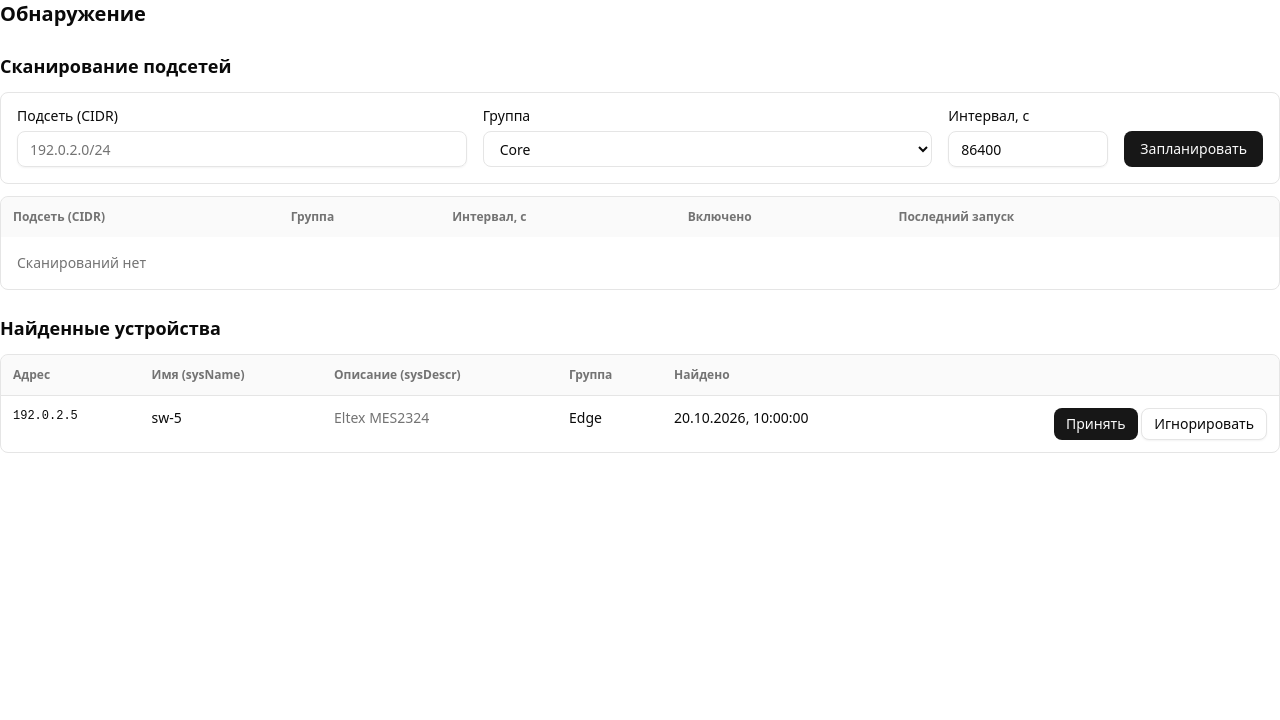
Test: inbox › shows not_pending when the find was handled elsewhere
This screenshot has width=1280, height=720.
Click the button "Принять": [1096, 424] box [1054, 408, 1138, 440]
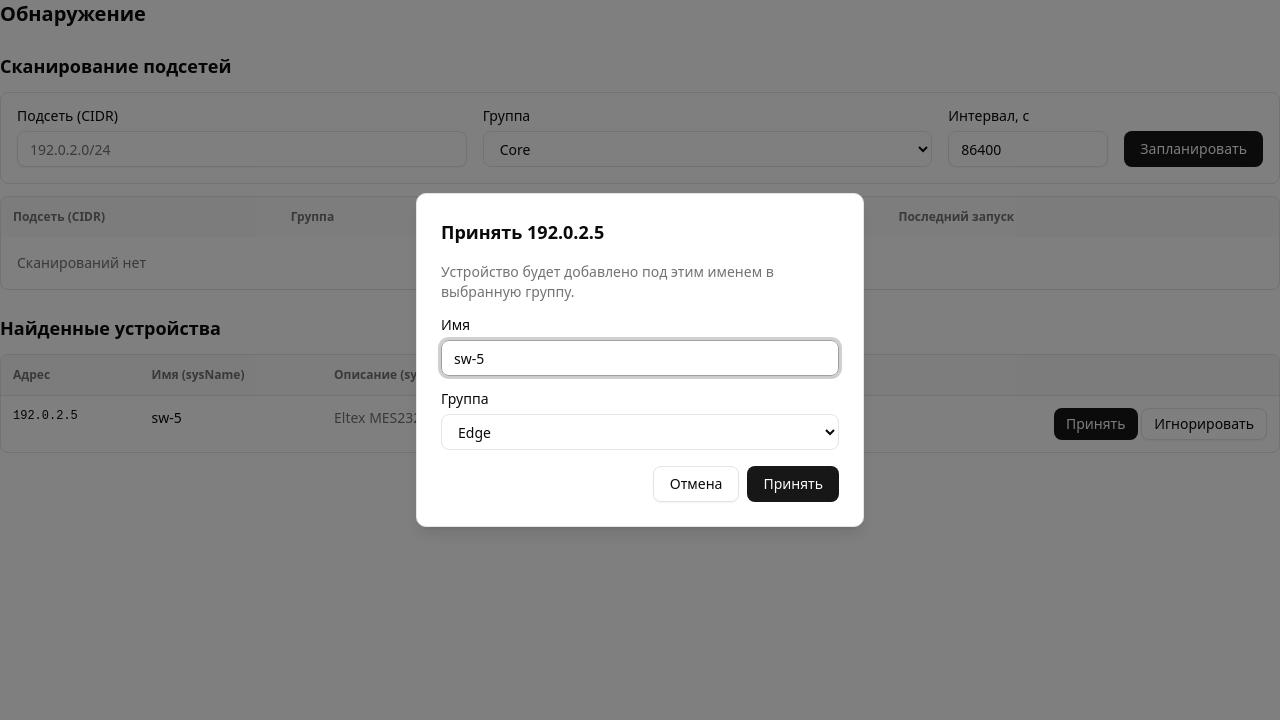
Click the button "Принять": [793, 484] box [747, 466, 839, 502]
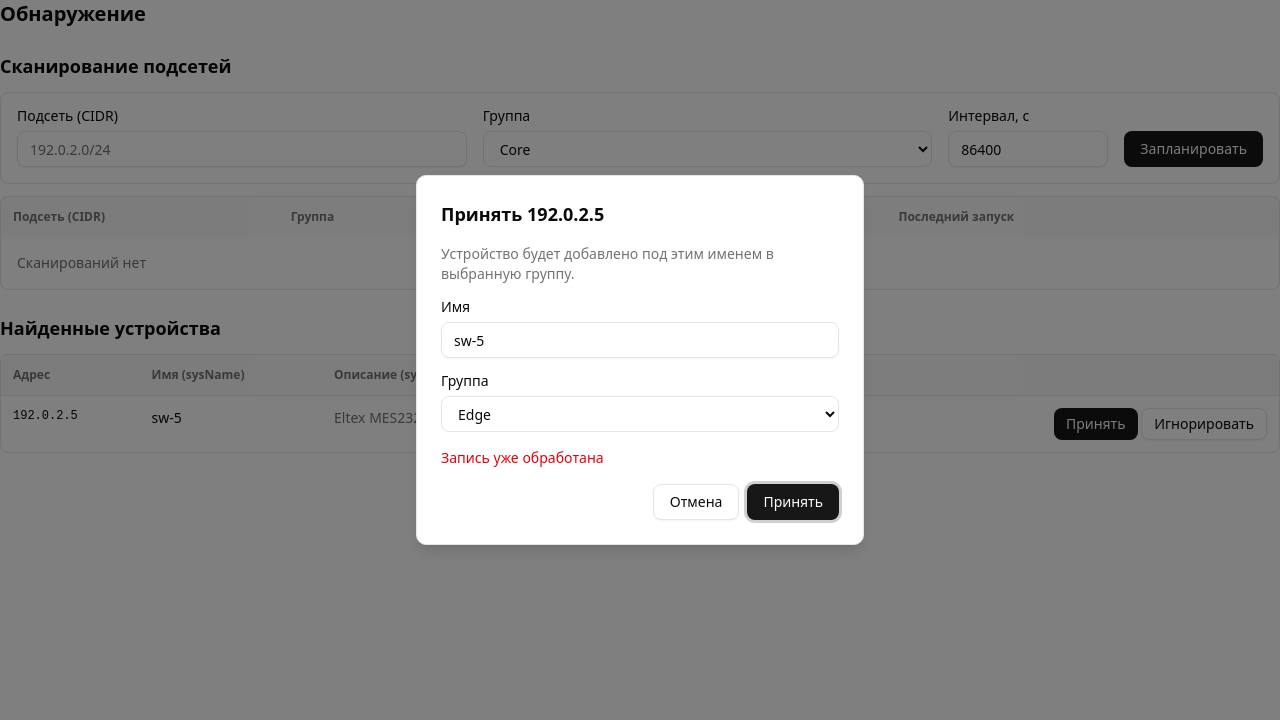
expect the message reads "Запись уже обработана": met, box [441, 448, 604, 467]
